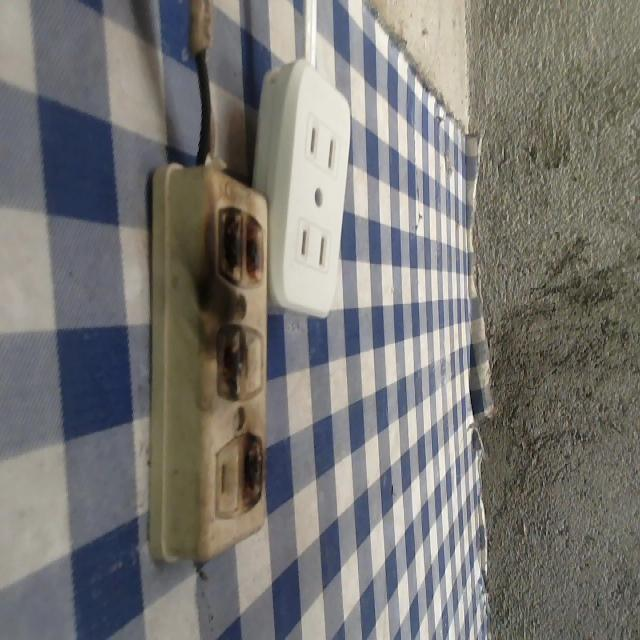-: (206, 198, 271, 298), (214, 309, 250, 415), (237, 430, 266, 510)
